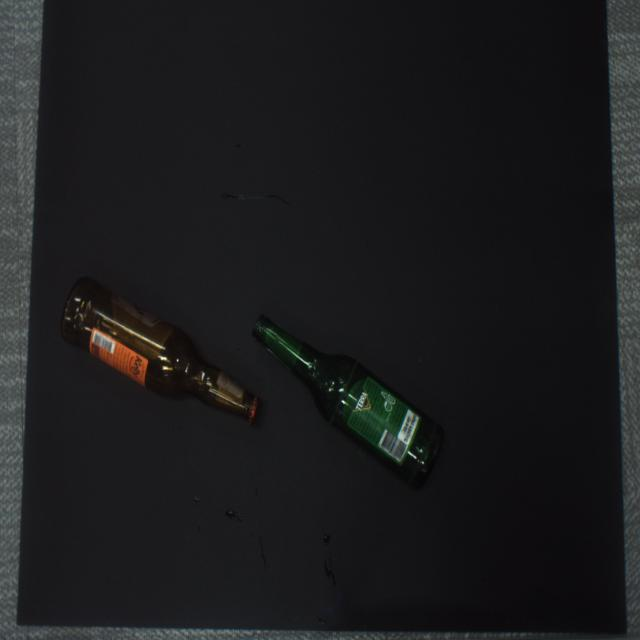beer-bottle: (252, 315, 443, 486), (61, 278, 258, 422)
